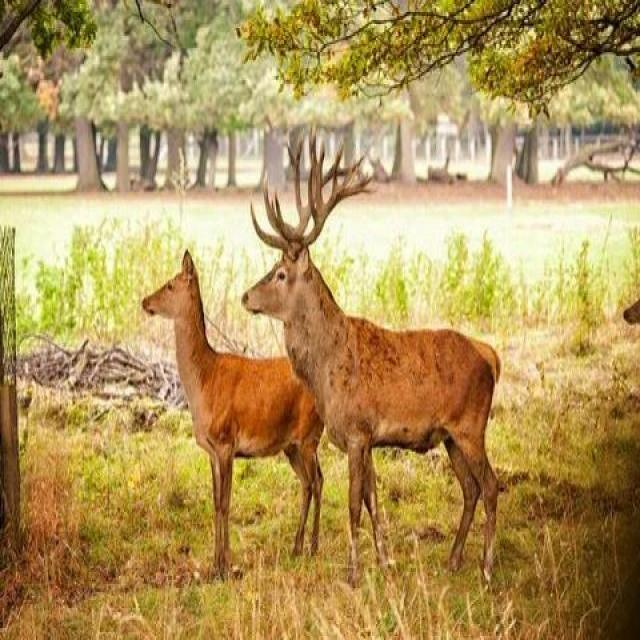deer: (236, 147, 512, 589), (131, 240, 352, 563)
